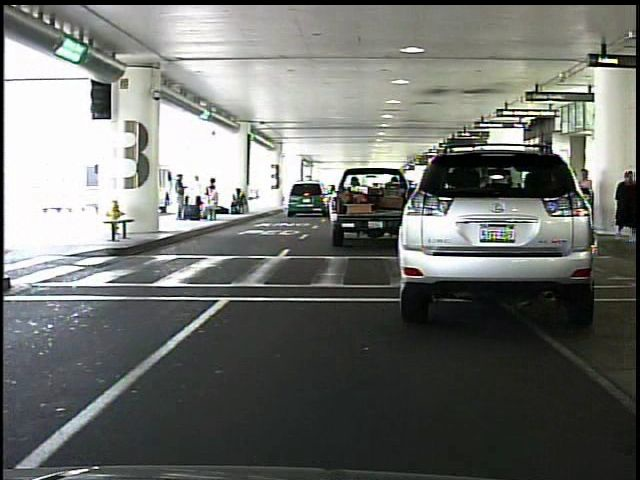person: (611, 167, 636, 242), (575, 166, 598, 234), (172, 171, 192, 224)
